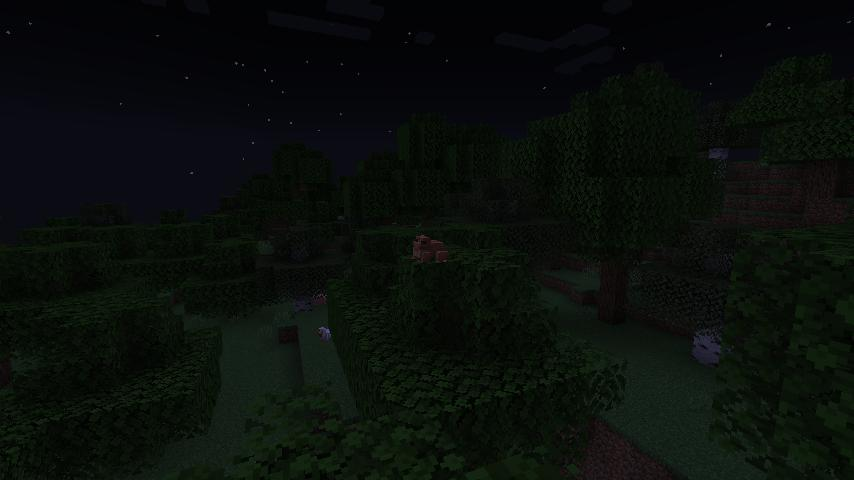chicken: (314, 323, 335, 343)
frog: (408, 231, 452, 269)
pig: (311, 292, 328, 306)
